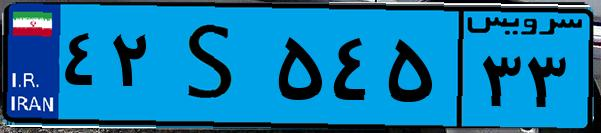2: (110, 28, 158, 98)
3: (475, 38, 525, 113), (525, 38, 570, 115)
4: (330, 28, 385, 110), (57, 26, 110, 100)
5: (270, 28, 330, 110), (385, 28, 445, 110)
S: (158, 12, 270, 120)
